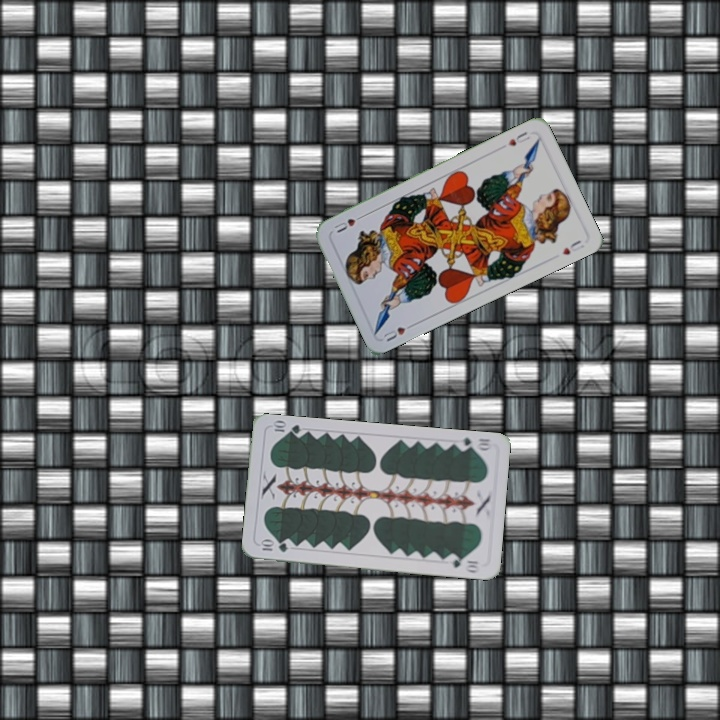G10: (453, 433, 494, 454), (256, 537, 290, 555)
HU: (379, 319, 418, 344), (504, 128, 533, 149)
